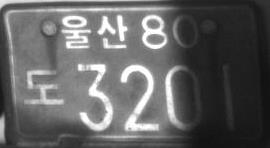0: (164, 64, 202, 132), (172, 14, 198, 49)
1: (210, 64, 241, 133)
2: (119, 63, 160, 132)
3: (76, 63, 114, 132)
8: (141, 14, 168, 49)
도: (23, 68, 64, 105)
울산_O: (61, 14, 127, 48)
